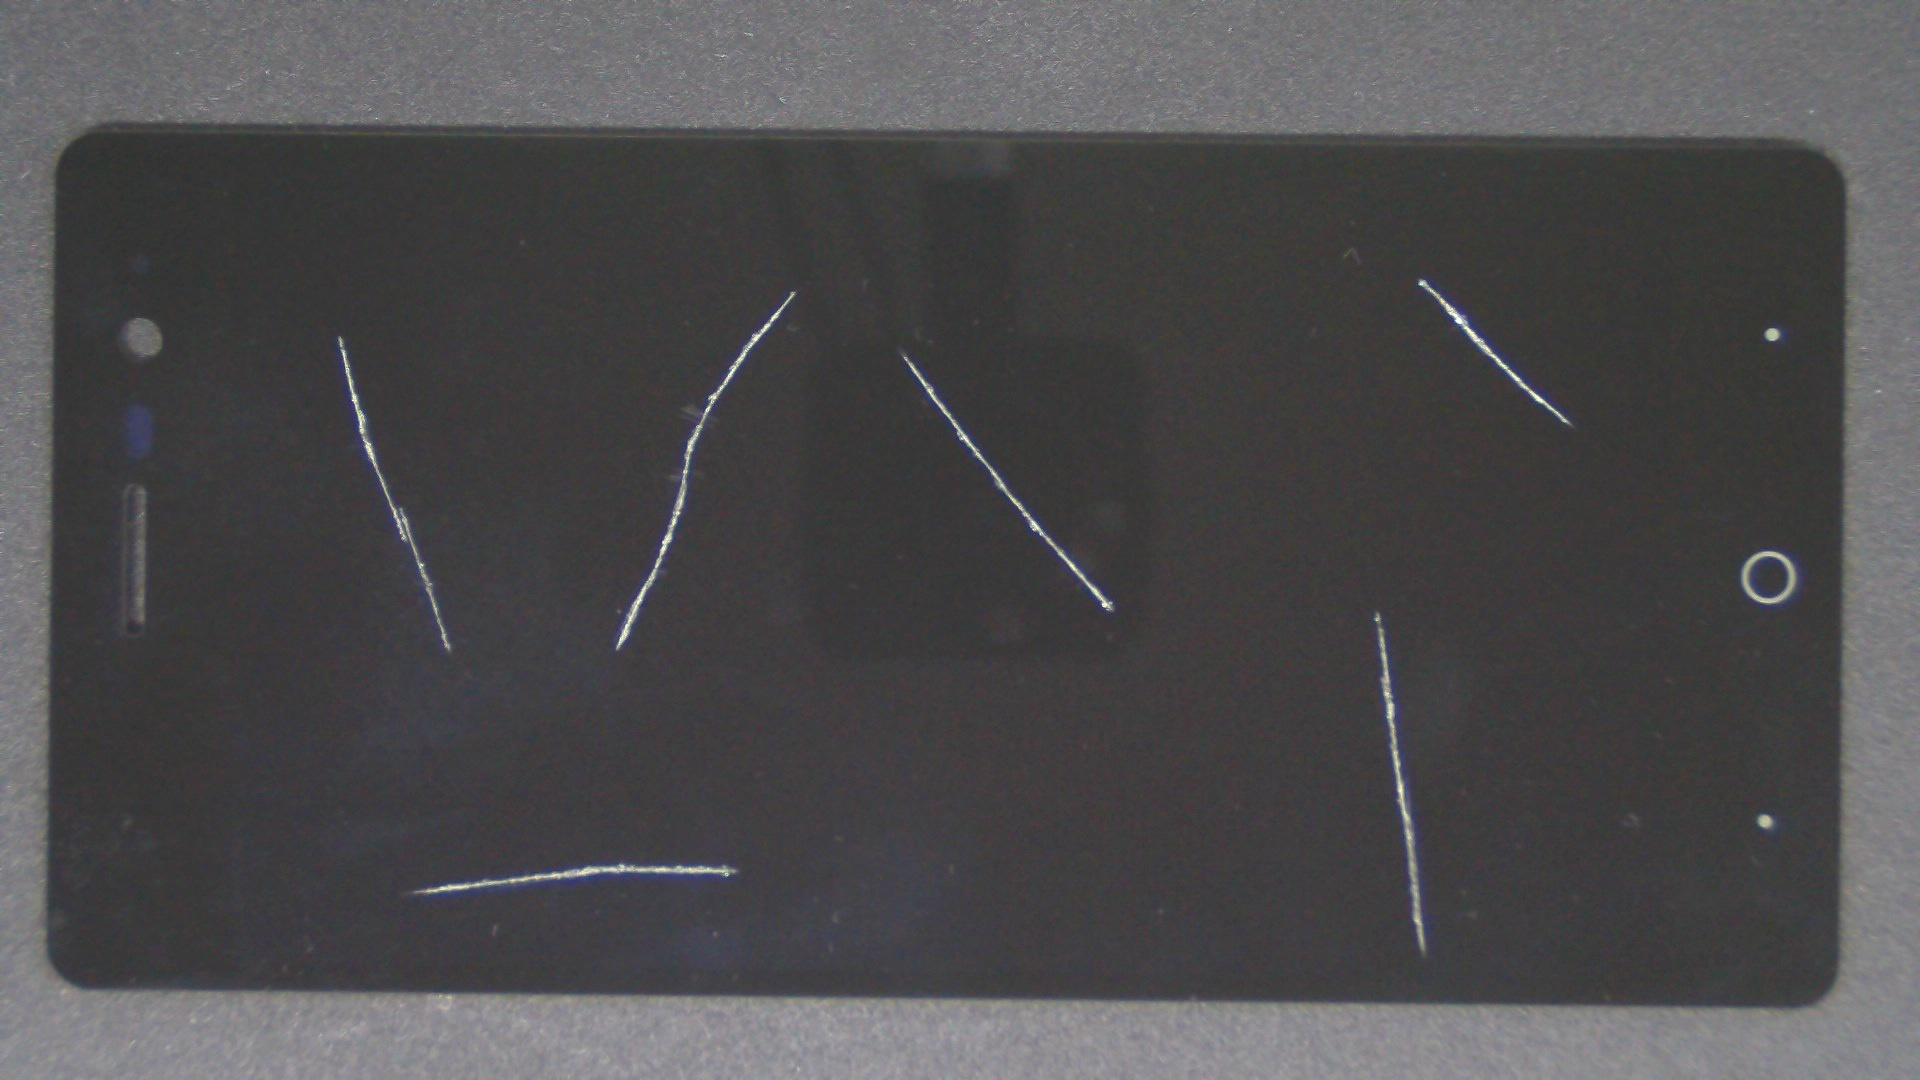oil: (690, 305, 1920, 915), (311, 430, 932, 1080), (711, 138, 1920, 415), (451, 174, 1352, 527), (396, 145, 1185, 435), (170, 166, 506, 501)
